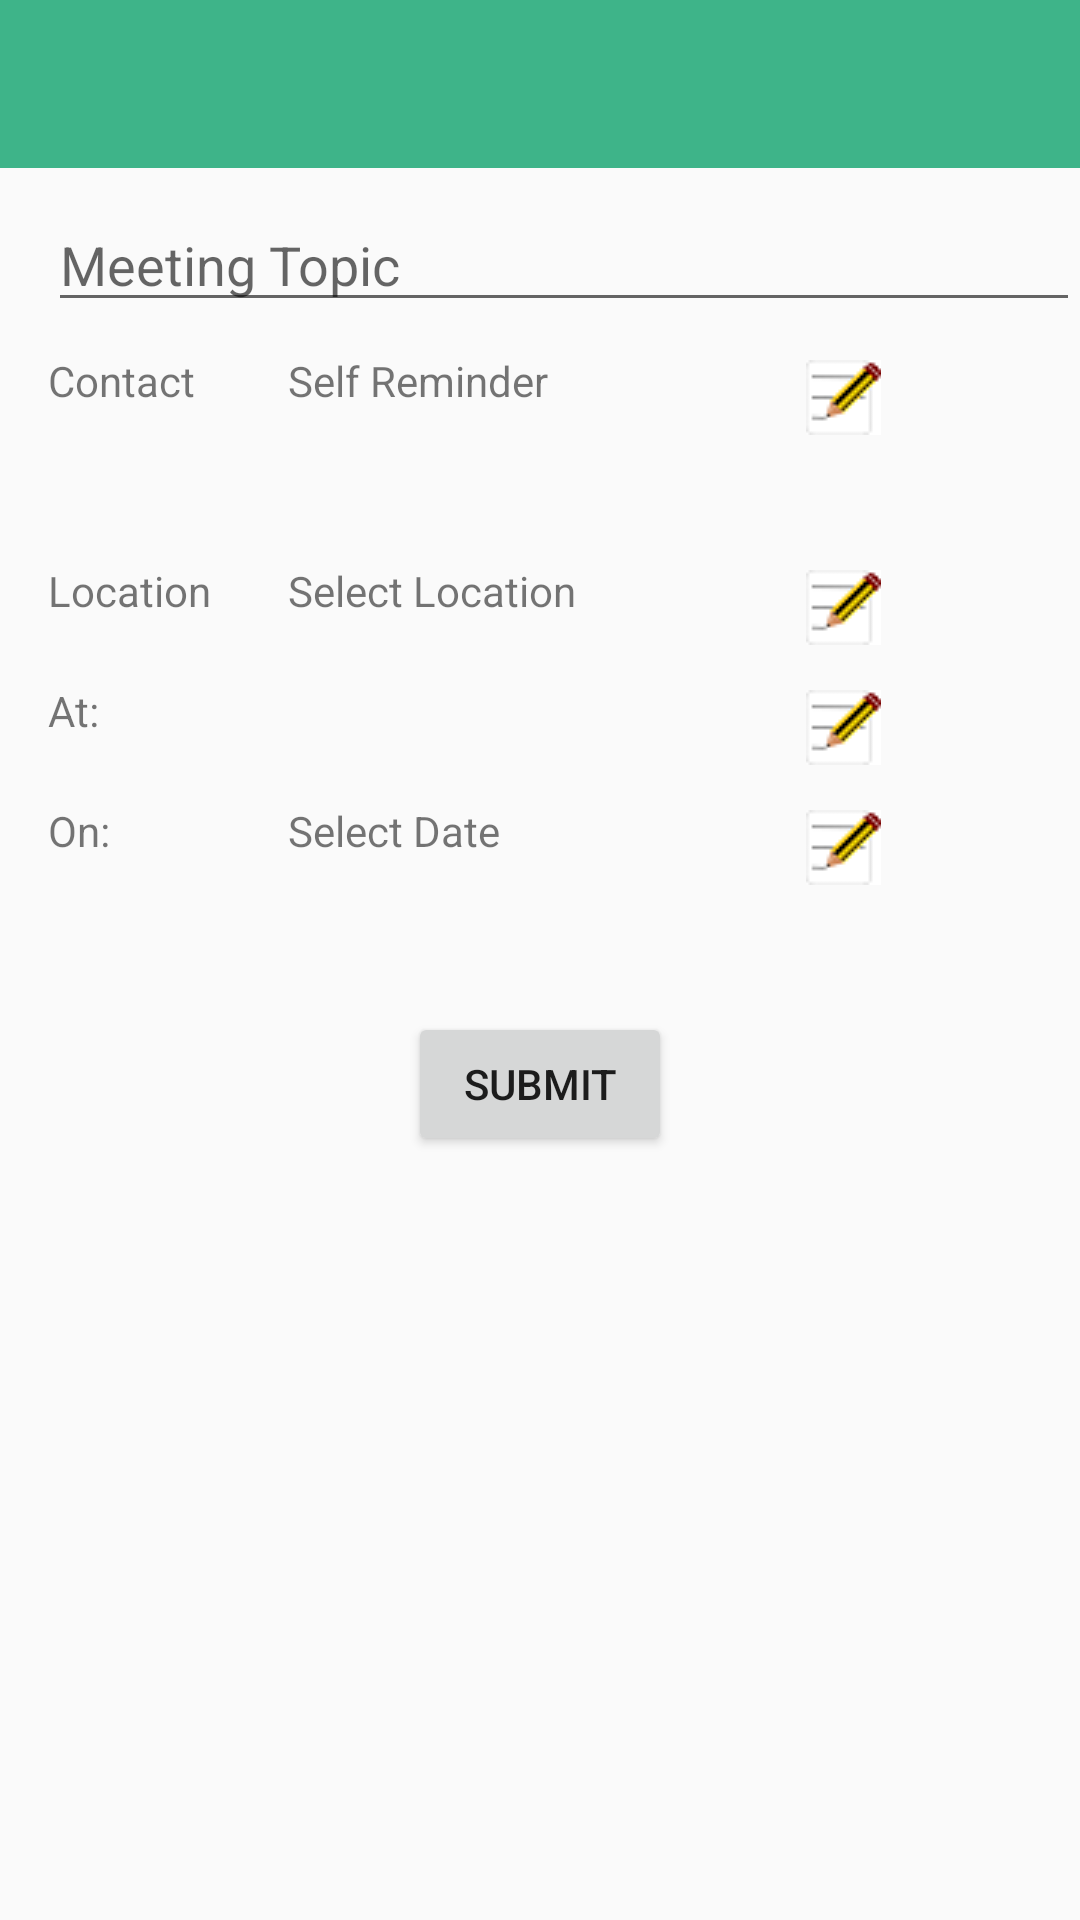

Named icons in this screenshot (1080×1920) and their bounding boxes, (x1, y1, x2, y2):
edit: (811, 362, 881, 421), (811, 572, 881, 631), (811, 692, 881, 751), (811, 812, 881, 871)
